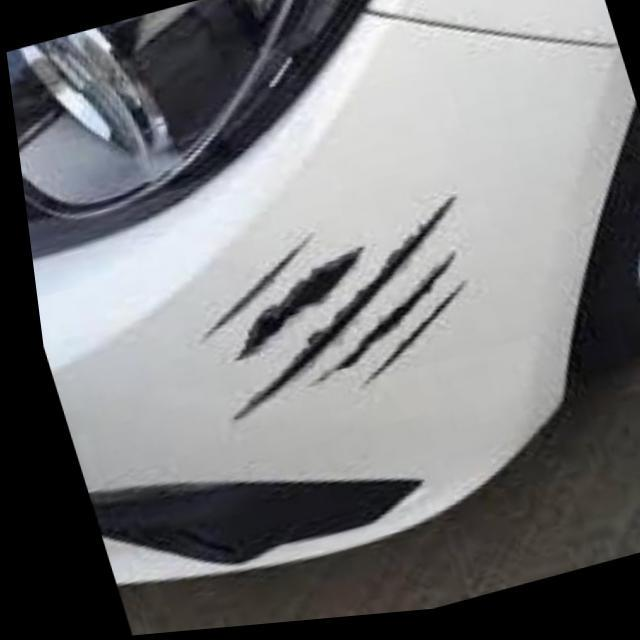crack: (173, 198, 463, 429)
